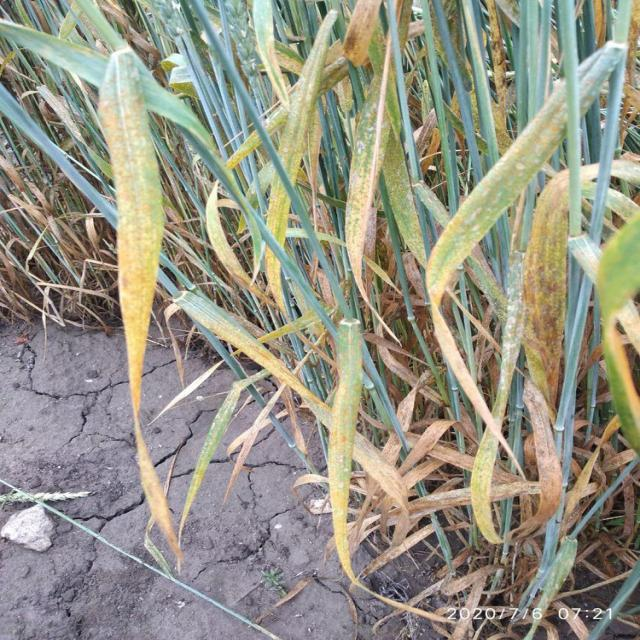wheat-septoria: (428, 98, 569, 312), (344, 52, 390, 273)
wheat-yellowrust: (97, 58, 172, 548)
